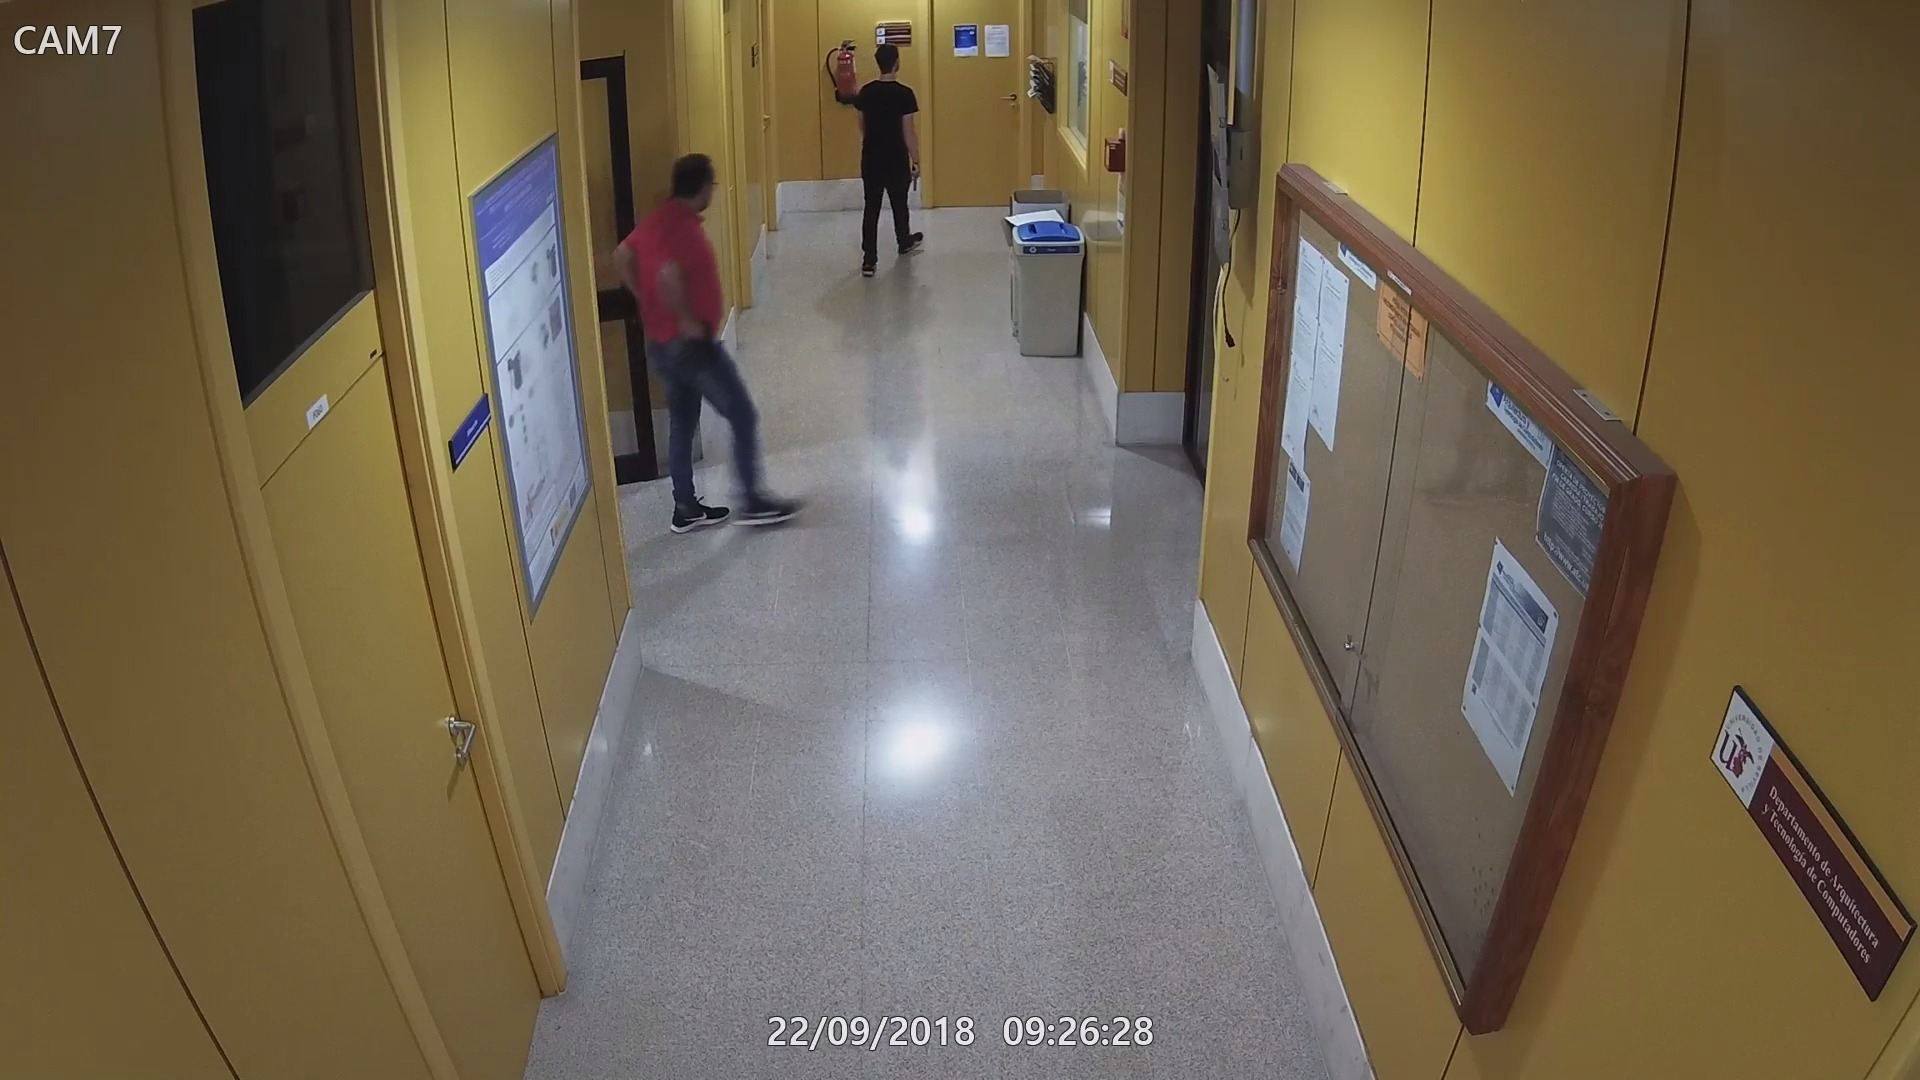Handgun: (684, 316, 720, 368), (903, 162, 928, 193)
